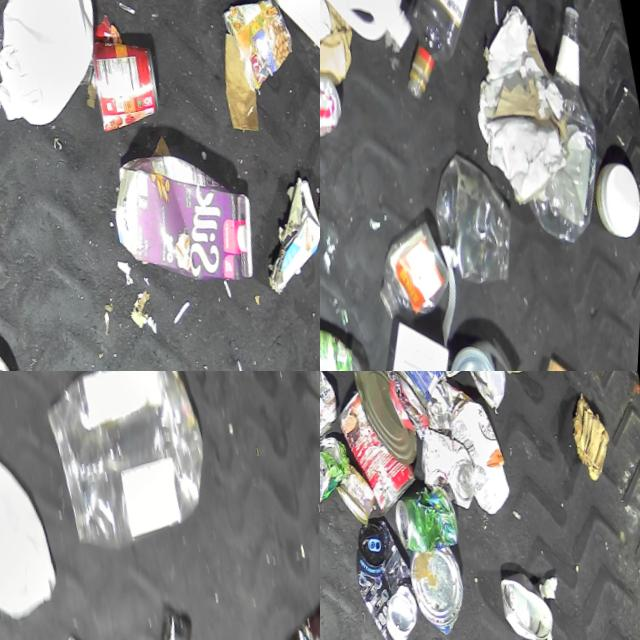can: (330, 379, 429, 518), (81, 20, 175, 138), (345, 515, 432, 640), (346, 371, 427, 471), (412, 419, 486, 518), (406, 543, 479, 640), (389, 482, 465, 558), (497, 567, 564, 640), (367, 371, 473, 414), (332, 459, 385, 528), (320, 432, 360, 512), (320, 62, 352, 150), (455, 371, 515, 414), (443, 339, 516, 371), (320, 371, 348, 446)
milk_jug: (0, 417, 81, 640), (0, 0, 122, 138), (320, 0, 423, 74), (3, 371, 139, 392)
